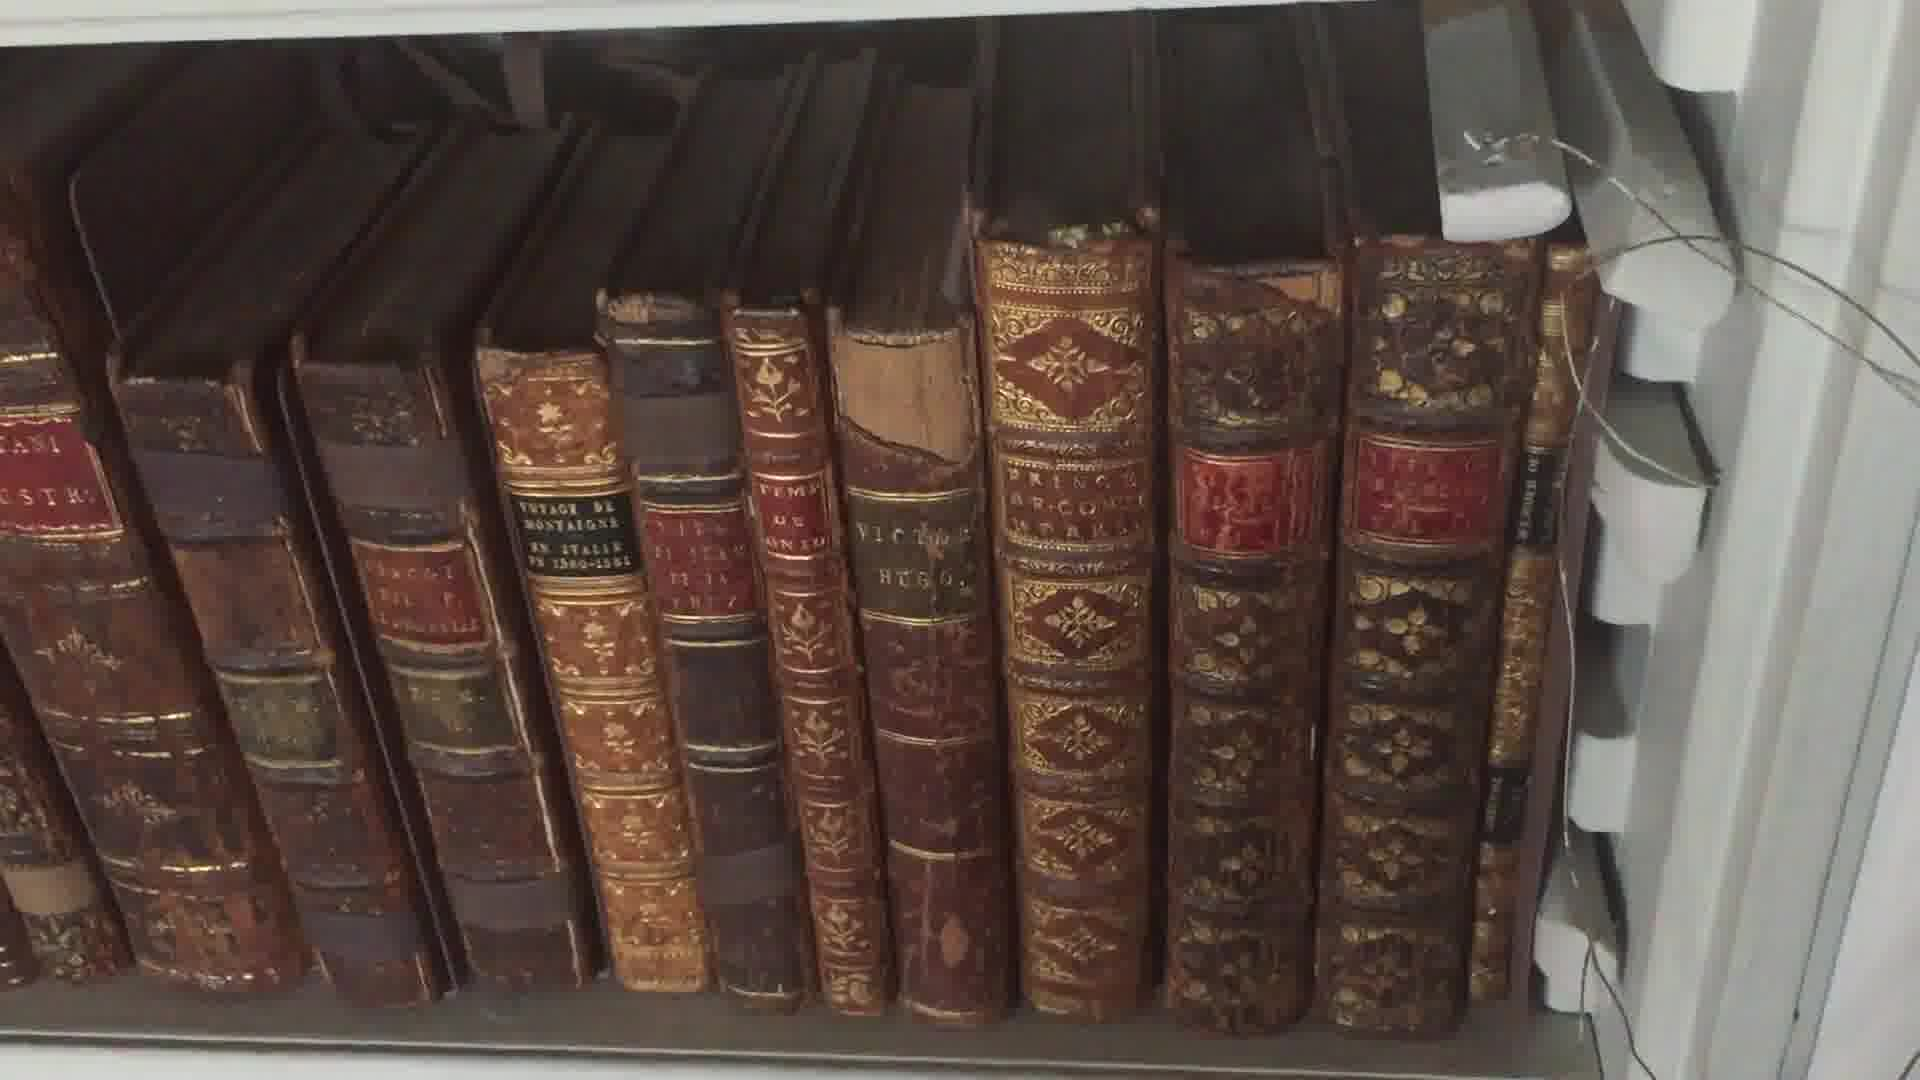Aa6-39_40: (104, 344, 580, 1005)
Aa6-41: (443, 301, 738, 1063)
Aa6-42: (597, 295, 865, 1036)
Aa6-43: (719, 278, 934, 1034)
Aa6-44: (812, 313, 1063, 1063)
Aa6-45: (948, 236, 1182, 1044)
Aa6-46-47: (1168, 222, 1491, 1048)
Aa6-48: (1466, 229, 1629, 1044)
